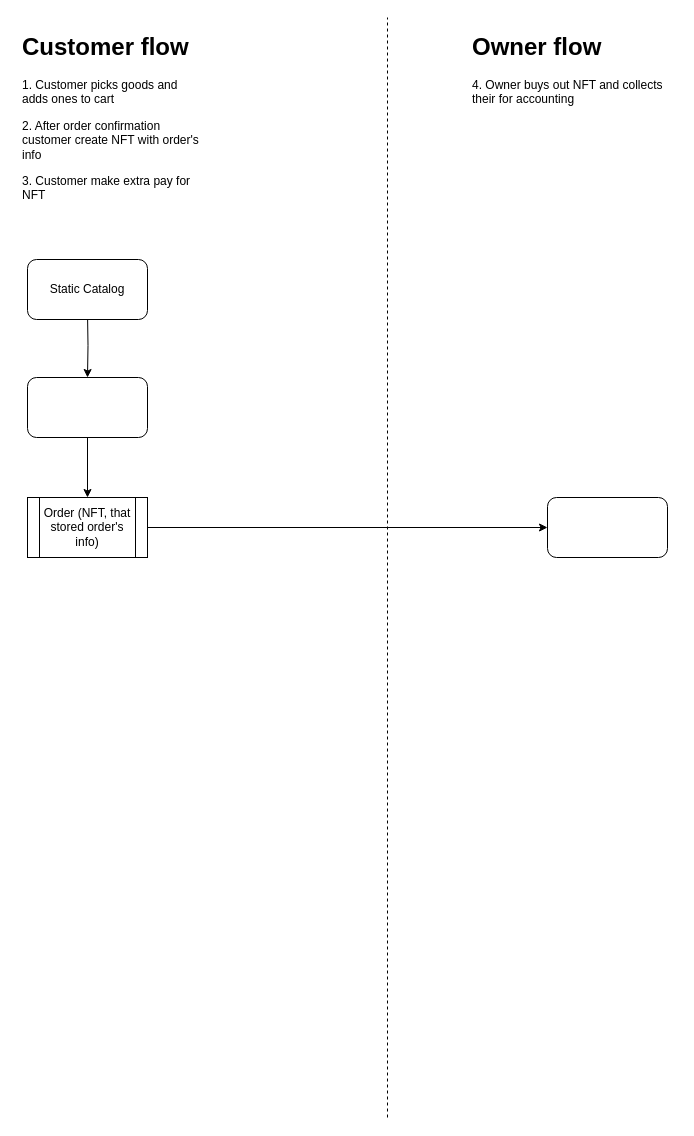
This 694x1136 diagram has some shape labels left out. The shapes that lost their labels are listed below. From the top down, each one's centre as x and y in pixels, then its label:
point (87, 407): Dynamic cart (Client side with javascript)
point (607, 527): Buy out NFT
